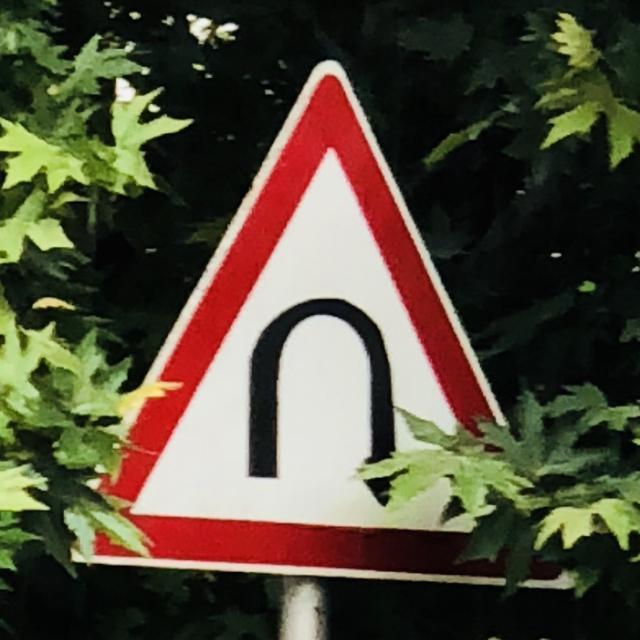u turn: (67, 67, 584, 585)
